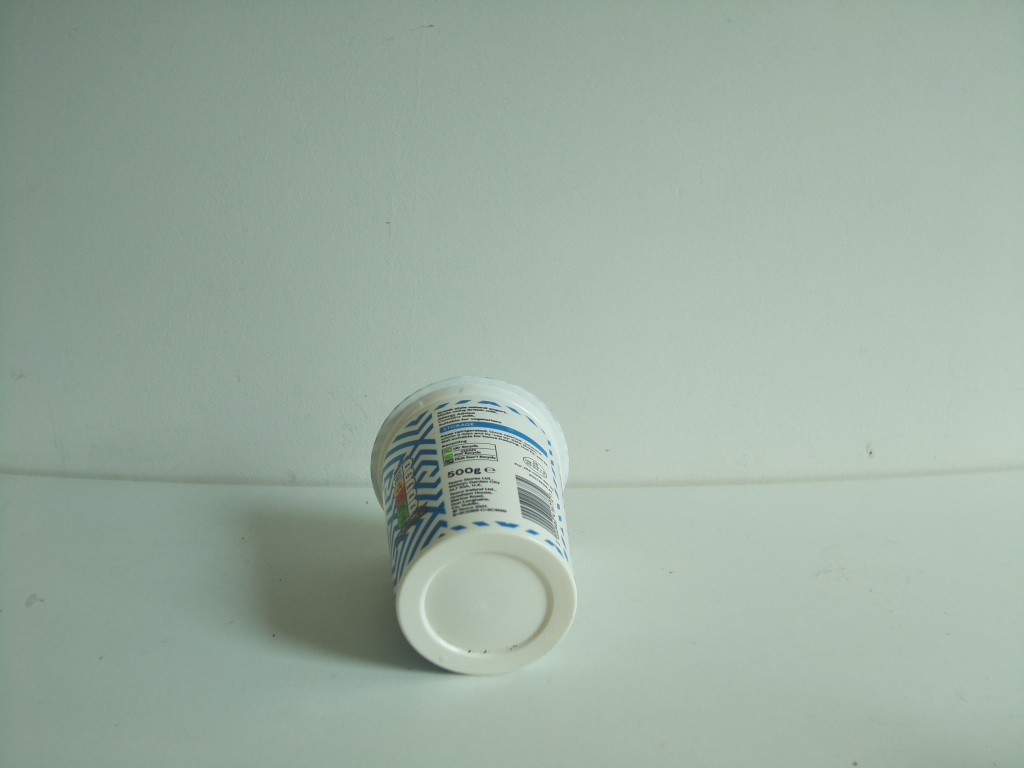yogurt: (366, 370, 584, 682)
